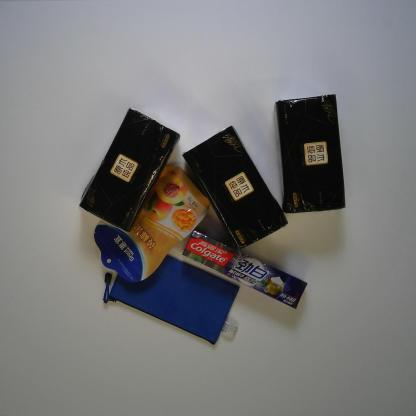Dried Fruit: (93, 165, 210, 283)
Personal Hygiene: (182, 230, 308, 310)
Stationery: (102, 248, 240, 346)
Tissue: (182, 125, 288, 250), (78, 107, 181, 232), (274, 94, 346, 214)
